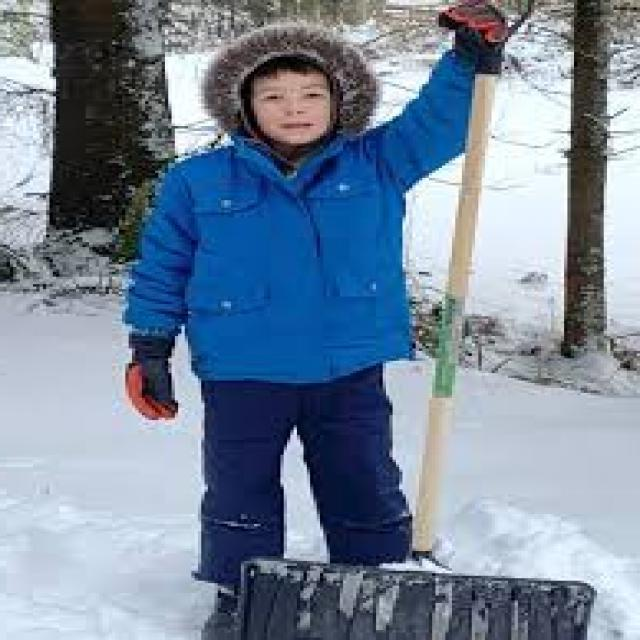coat: (121, 48, 486, 387)
trousers: (193, 361, 410, 593)
